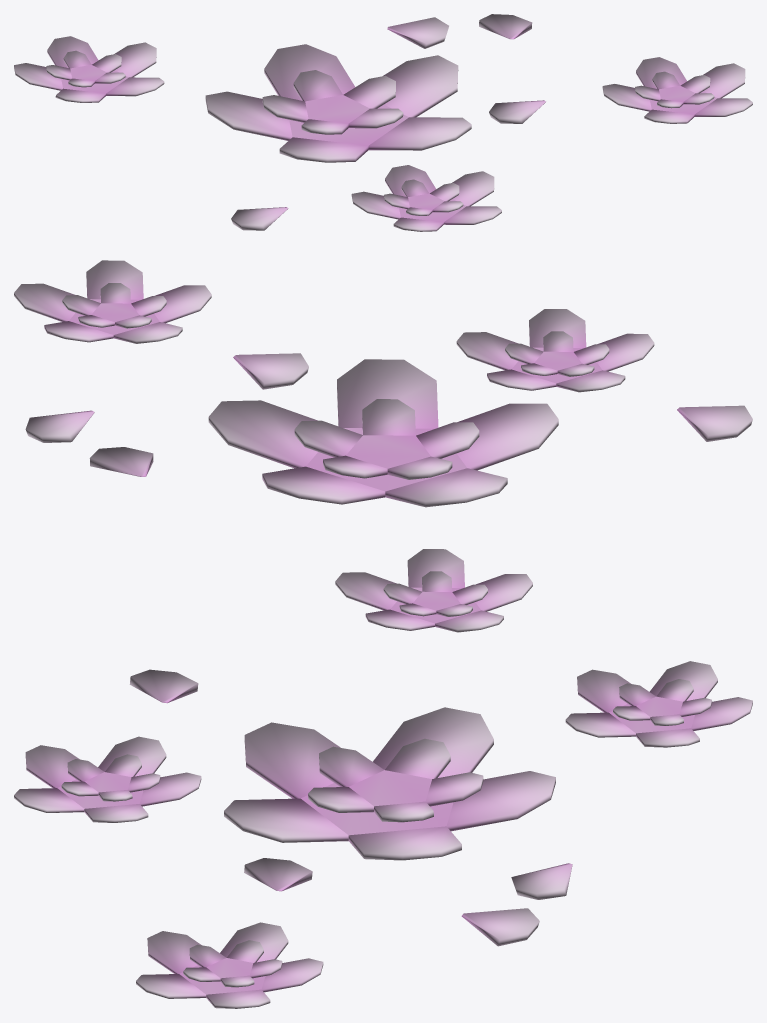
The model's file is cutepack2023cherrypetals01 1.fbx.
3 renders of one model, top to bottom at view 1: azimuth 30°, elevation 25°; view 2: azimuth 150°, elevation 25°; view 3: azimuth 270°, elevation 25°, orthographic. The views are drawn at different scales.
Parts seen in each view (by area): view 1: Sphere.287; view 2: Sphere.287; view 3: Sphere.287.
Boxes of the visible parts, box(x1,y1,x2,y2) form: Sphere.287: box(14, 14, 752, 231); Sphere.287: box(14, 260, 752, 632); Sphere.287: box(14, 661, 752, 1008).
Bounding box in the file's own units: 179 × 7.98 × 163.
